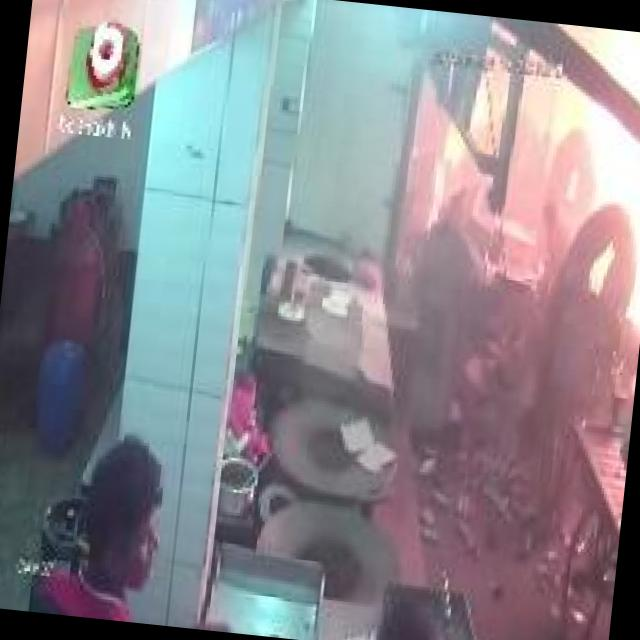fire: (565, 30, 640, 319)
